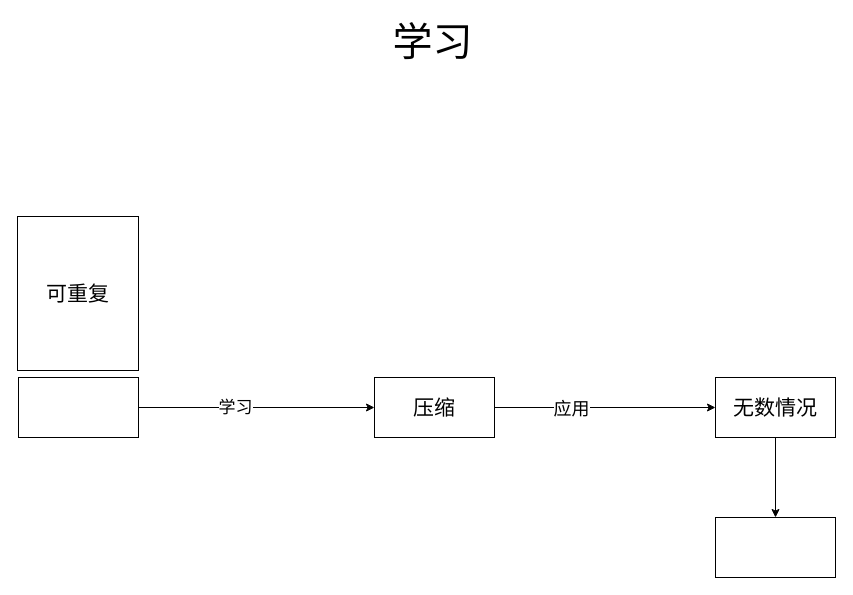
This 853x595 diagram has some shape labels left out. The box of each missing label's shape, as (x1, y1, x2, y2) in pixels:
有限例子: (18, 376, 138, 438)
知识: (714, 516, 836, 578)
